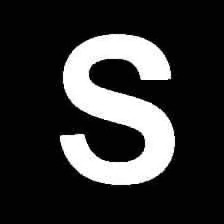LTR_S: (54, 24, 176, 192)
